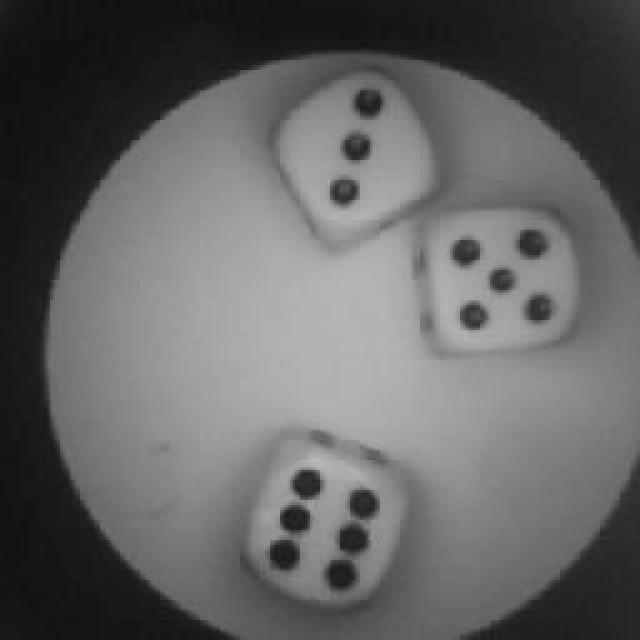dice_3: (283, 75, 435, 235)
dice_5: (425, 205, 577, 353)
dice_6: (240, 440, 402, 608)
